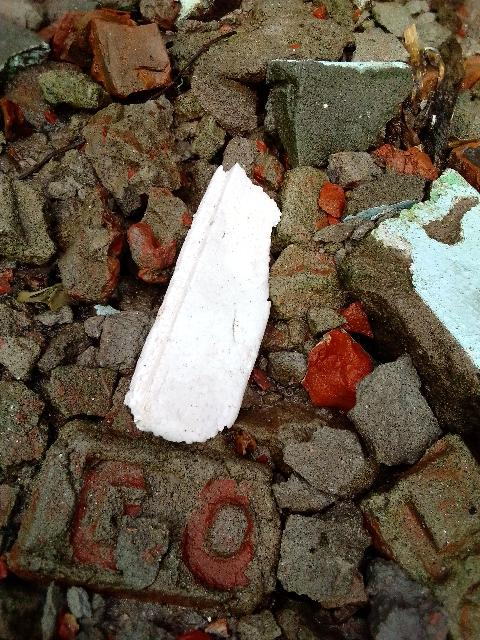cocksheet: (138, 158, 301, 444)
